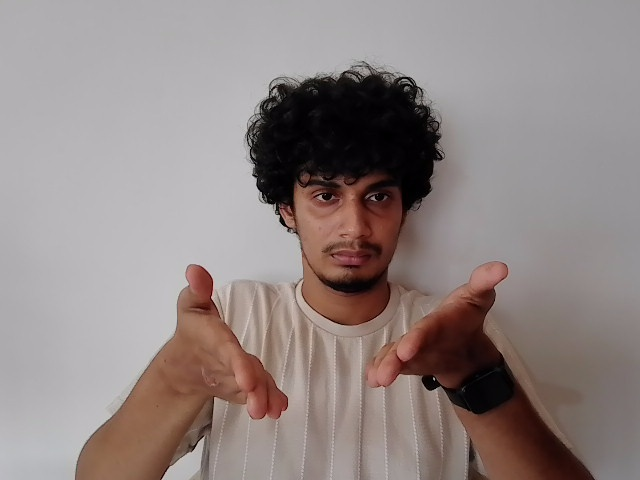here: (179, 261, 513, 416)
